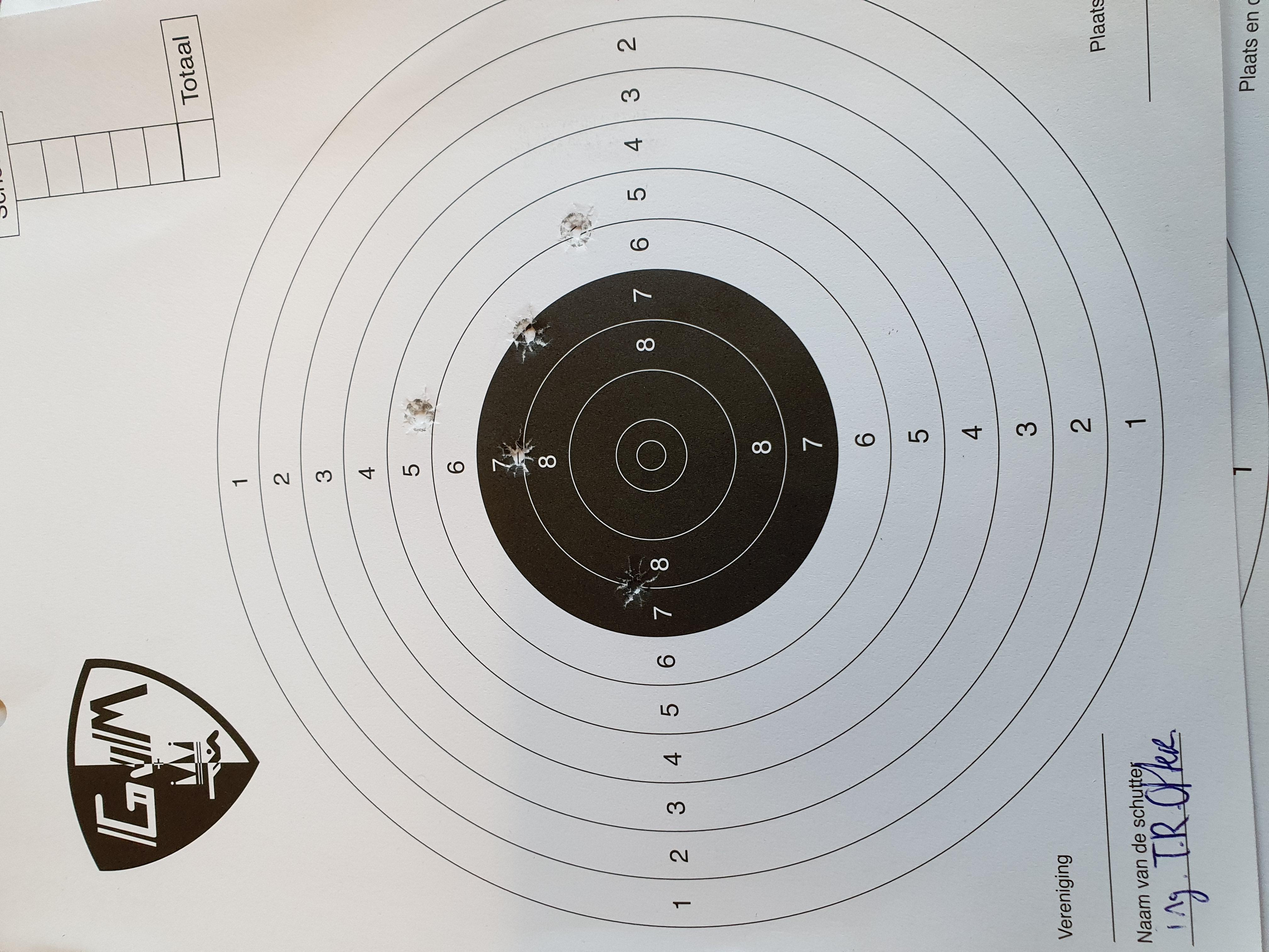hole: (744, 457, 812, 496), (520, 620, 583, 652), (417, 537, 478, 570), (274, 505, 338, 535), (585, 551, 640, 580)
